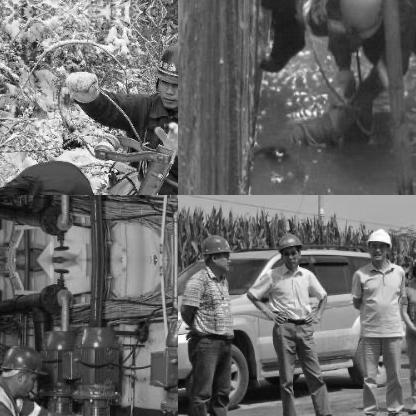Helmet: (0, 340, 46, 397), (149, 34, 177, 109), (341, 0, 390, 39), (199, 231, 233, 271), (364, 224, 392, 262), (275, 229, 302, 265), (409, 245, 415, 282)
